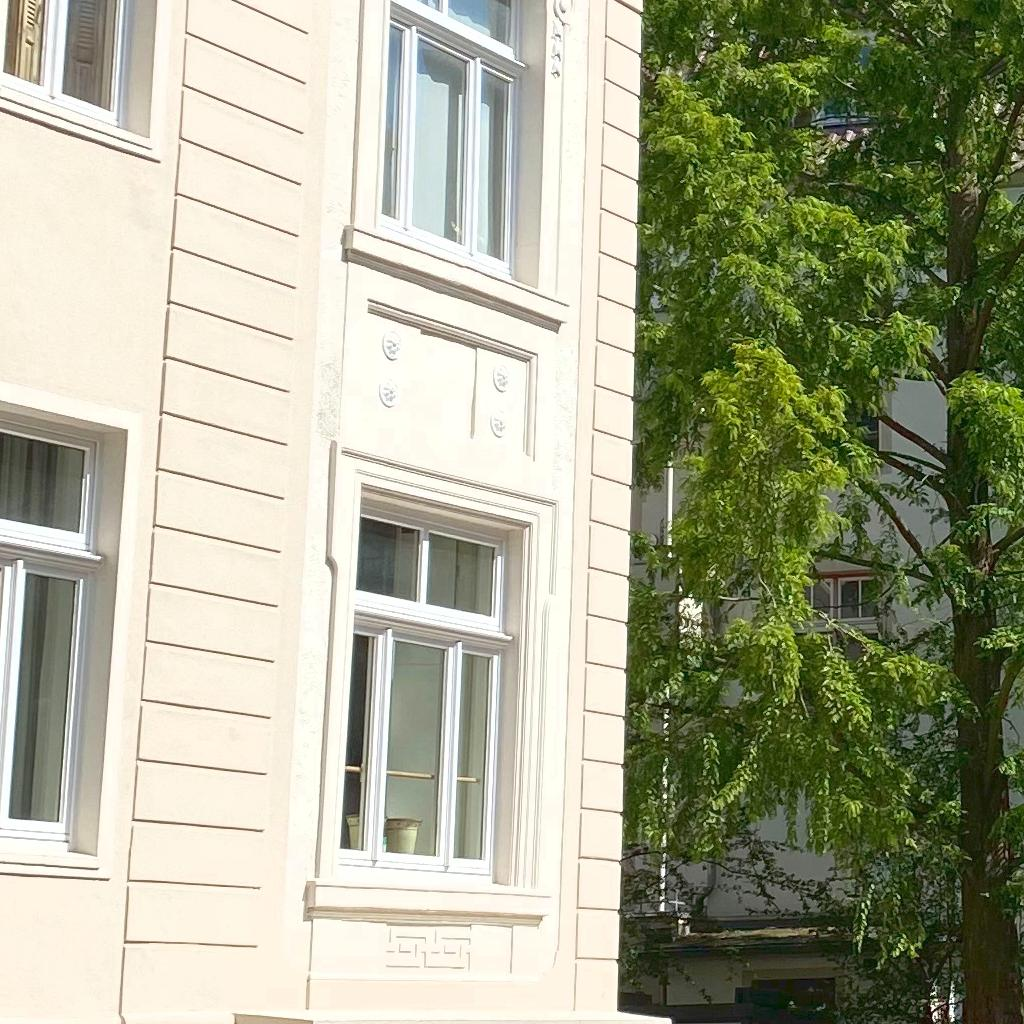tree: (620, 1, 1023, 1024)
